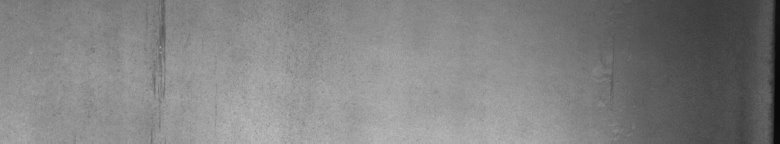ka: (146, 4, 172, 95)
